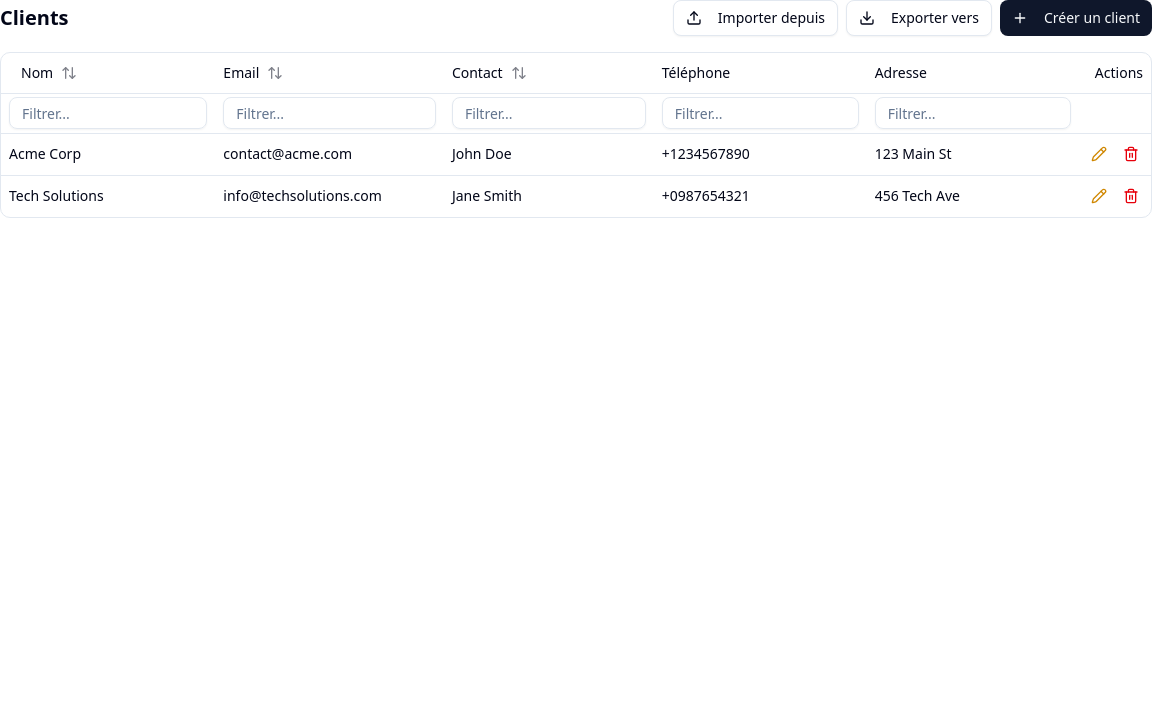
Test: Customers Component › Create Customer › should open create modal when create button is clicked
The width and height of the screenshot is (1152, 720).
Check: the text "Acme Corp" is shown, box [9, 144, 81, 163]
Click the button with test id "customer-add-button": click(1076, 18) [1000, 0, 1151, 36]
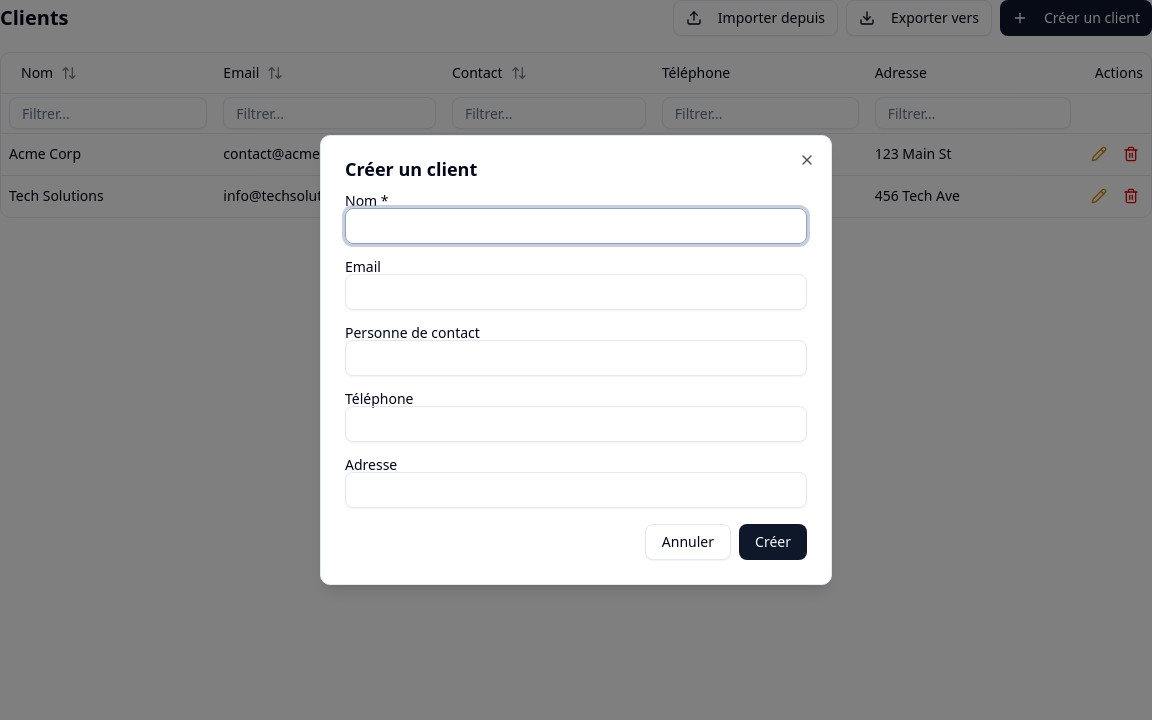
Check: the dialog with test id "customer-dialog" is shown, box [320, 135, 832, 585]
Check: the field with test id "customer-name-input" is shown, box [345, 208, 807, 244]
